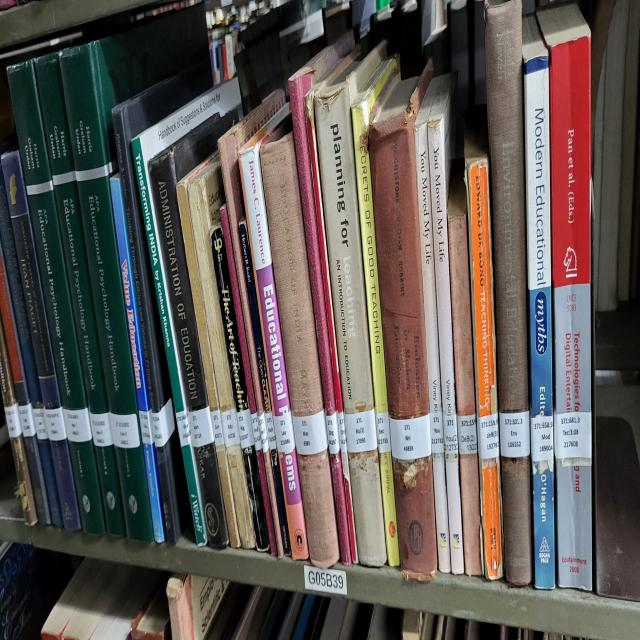Book: (59, 8, 208, 541), (131, 81, 240, 547), (112, 62, 210, 544), (9, 62, 105, 533), (35, 54, 125, 536), (149, 111, 239, 549), (369, 62, 438, 582), (315, 62, 386, 565), (260, 133, 339, 565), (239, 106, 309, 560), (2, 152, 81, 530), (541, 11, 592, 590), (485, 0, 532, 587), (176, 152, 240, 547), (351, 54, 400, 565), (289, 32, 354, 417), (0, 184, 62, 528), (219, 89, 284, 414), (220, 206, 278, 555), (110, 173, 165, 541), (211, 225, 269, 549), (522, 22, 555, 587), (428, 73, 464, 574), (415, 76, 450, 571), (149, 127, 209, 414), (239, 219, 290, 555), (465, 122, 502, 579), (189, 160, 235, 427), (448, 160, 476, 417), (190, 417, 229, 547), (226, 444, 255, 547), (330, 452, 351, 563), (30, 76, 49, 173)
Label: (390, 414, 431, 460), (555, 411, 591, 463), (292, 409, 328, 455), (344, 409, 378, 452), (499, 411, 530, 457), (531, 414, 554, 471), (151, 398, 175, 449), (110, 414, 140, 449), (62, 406, 92, 441), (478, 414, 500, 460), (189, 406, 214, 446), (274, 411, 295, 455), (458, 414, 478, 455), (90, 411, 112, 446), (236, 409, 255, 449), (45, 406, 66, 441), (221, 409, 240, 446), (442, 414, 459, 455), (430, 411, 444, 455), (326, 411, 340, 455), (376, 411, 391, 452), (32, 406, 49, 441), (176, 409, 191, 446), (139, 409, 154, 444), (210, 409, 224, 446), (265, 411, 276, 452), (338, 411, 348, 455), (259, 411, 269, 452), (251, 411, 261, 452)
